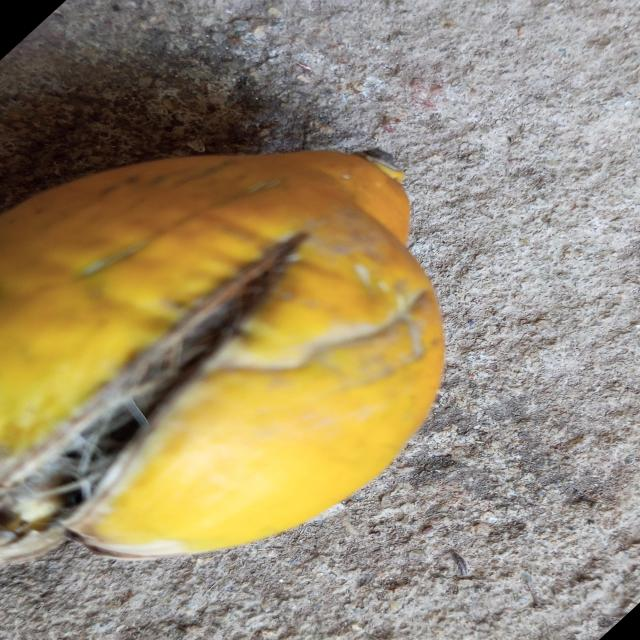damaged: (0, 150, 447, 570)
